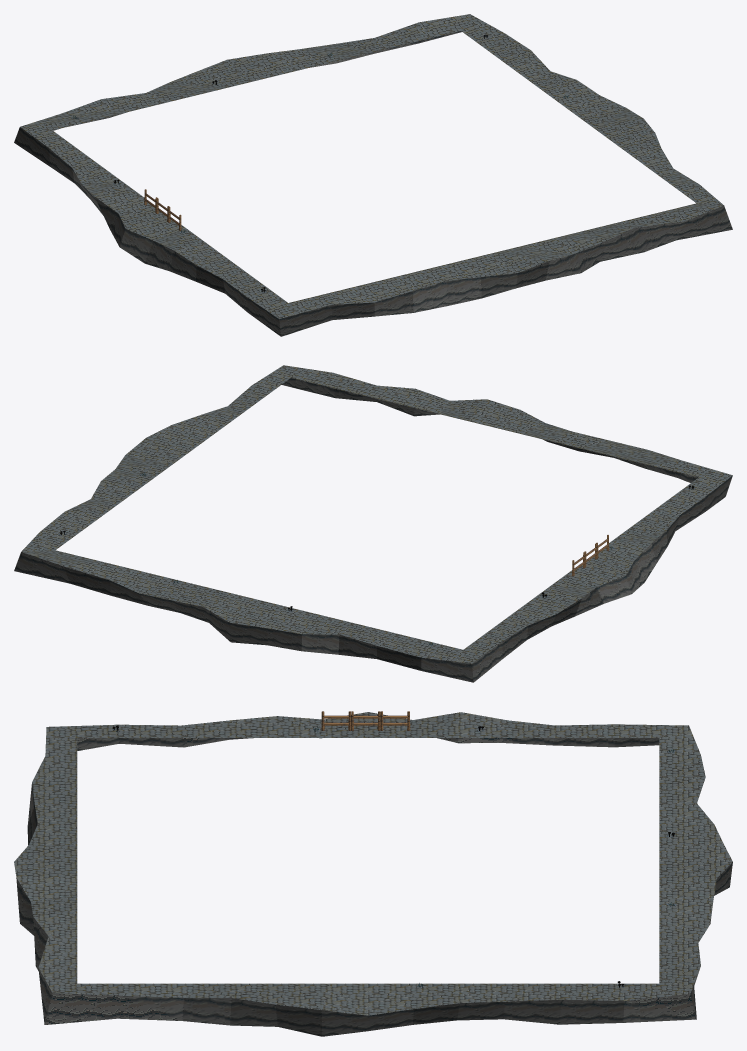
File: entorno_18.fbx
3 renders of one model, top to bottom at view 1: azimuth 30°, elevation 25°; view 2: azimuth 150°, elevation 25°; view 3: azimuth 270°, elevation 25°, orthographic. The views are drawn at different scales.
Parts seen in each view (by area): view 1: pedreira_entorno_18; view 2: pedreira_entorno_18; view 3: pedreira_entorno_18.
Part boxes in pixels (bbox=[...]): pedreira_entorno_18: bbox=[14, 14, 732, 336]; pedreira_entorno_18: bbox=[14, 365, 732, 682]; pedreira_entorno_18: bbox=[14, 711, 732, 1036].
Size of the model in its own units: 2260 by 169 by 2249.
Materials: 7 (5 with a texture image).
